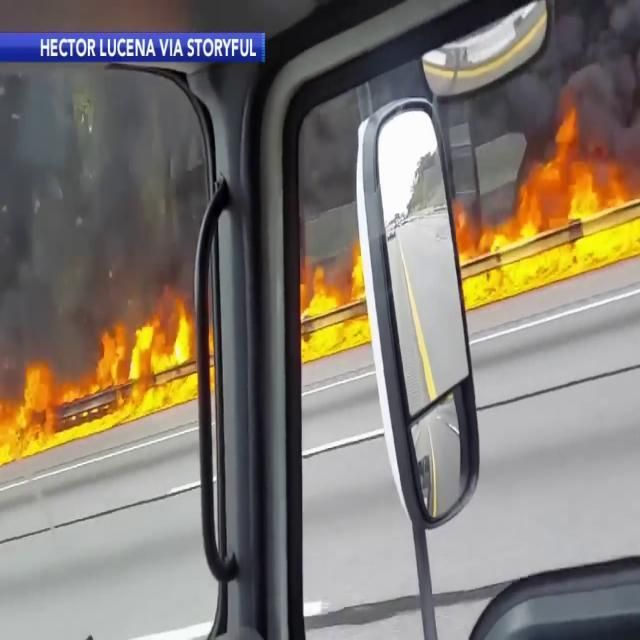Fire: (456, 112, 640, 296), (0, 293, 206, 422), (300, 240, 369, 368)
Smoke: (1, 0, 190, 324)
